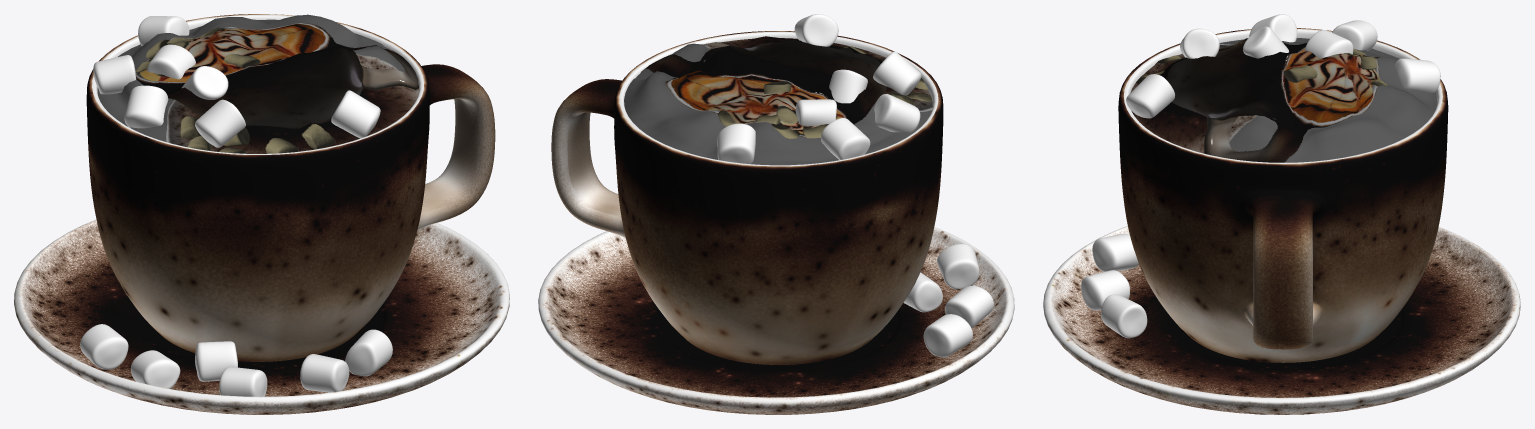
Rendered from cappuccino.fbx.
The picture shows the model from 3 angles, left to right: view 1: azimuth 30°, elevation 25°; view 2: azimuth 150°, elevation 25°; view 3: azimuth 270°, elevation 25°; orthographic projection. The views are drawn at different scales.
Visible parts, largest first — view 1: cup, plate, cappuccino, Пустышка; view 2: cup, plate, cappuccino, Пустышка; view 3: cup, plate, cappuccino, Пустышка.
Boxes of the visible parts, left/top/right/bottom form: cup: left=86, top=14, right=495, bottom=361; plate: left=14, top=219, right=509, bottom=414; cappuccino: left=97, top=14, right=418, bottom=153; Пустышка: left=80, top=16, right=392, bottom=396; cup: left=551, top=31, right=943, bottom=364; plate: left=538, top=227, right=1014, bottom=414; cappuccino: left=624, top=36, right=932, bottom=165; Пустышка: left=717, top=14, right=993, bottom=357; cup: left=1118, top=28, right=1448, bottom=362; plate: left=1043, top=226, right=1520, bottom=414; cappuccino: left=1130, top=38, right=1437, bottom=162; Пустышка: left=1081, top=14, right=1440, bottom=338.
Size of the model in its own units: 16.35 by 10 by 16.
